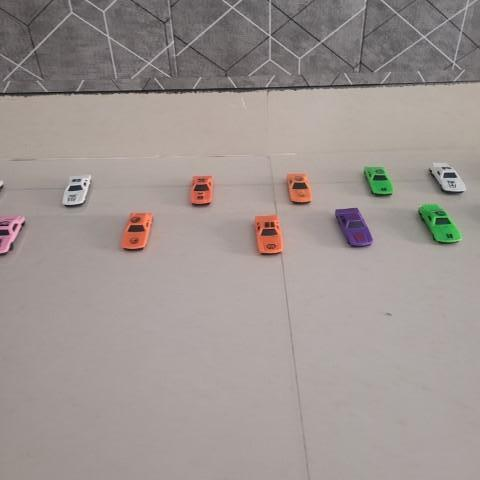car: (418, 199, 464, 246), (332, 203, 375, 249), (118, 209, 159, 254), (59, 171, 97, 212), (254, 212, 287, 257), (429, 160, 470, 195), (362, 162, 397, 196), (282, 169, 313, 205), (189, 173, 218, 207)
